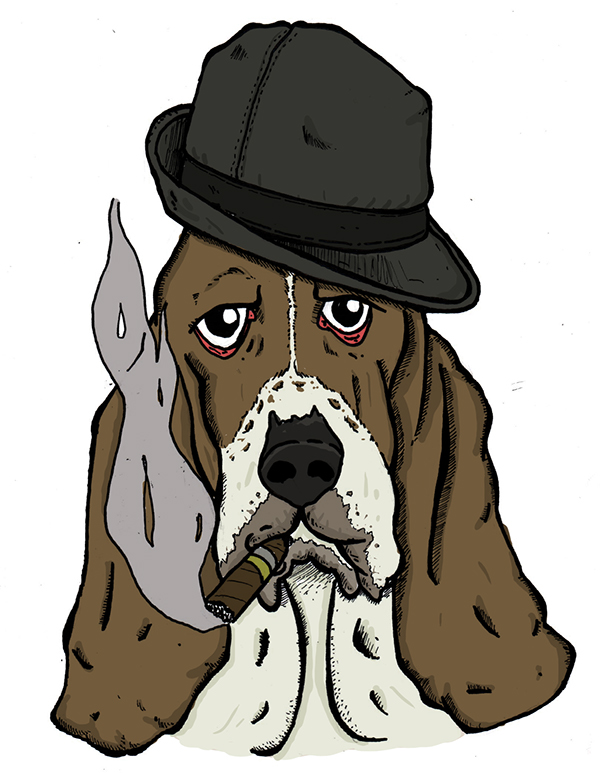dog: (7, 11, 567, 771)
